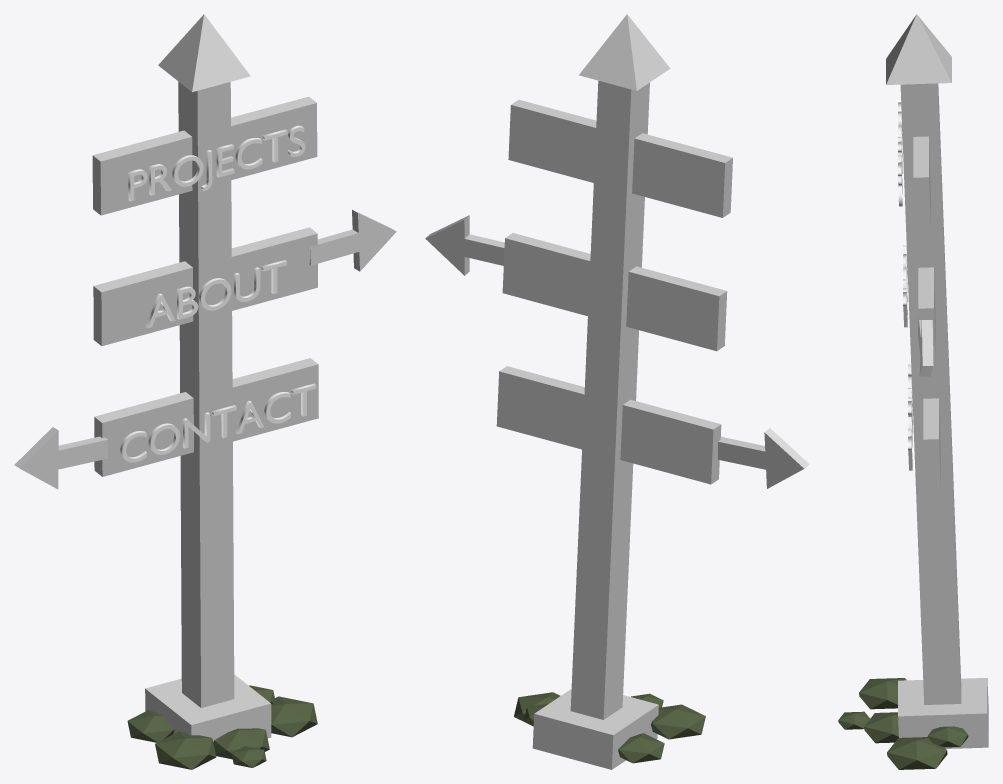
File: direction.glb
The picture shows the model from 3 angles, left to right: view 1: azimuth 30°, elevation 25°; view 2: azimuth 150°, elevation 25°; view 3: azimuth 270°, elevation 25°; orthographic projection. The views are drawn at different scales.
Visible parts, largest first — view 1: Signpost_Post, Signpost_Board_About, Signpost_Board_Projects, Signpost_Board_Contact, Signpost, Signpost_Base, Signpost_Cap, Signpost_Text_Projects, Signpost_Text_Contact, Signpost_Arrow_Right, Signpost_Arrow_Left, Signpost_Text_About; view 2: Signpost_Post, Signpost_Board_About, Signpost_Board_Projects, Signpost_Board_Contact, Signpost_Base, Signpost_Cap, Signpost, Signpost_Arrow_Right, Signpost_Arrow_Left; view 3: Signpost_Post, Signpost, Signpost_Base, Signpost_Cap, Signpost_Board_Contact, Signpost_Board_Projects, Signpost_Board_About, Signpost_Arrow_Left, Signpost_Text_Contact, Signpost_Text_Projects, Signpost_Text_About.
Boxes of the visible parts, x1,y1,x2,y2 form: Signpost_Post: (178,81,234,707); Signpost_Board_About: (93,227,317,345); Signpost_Board_Projects: (92,96,317,215); Signpost_Board_Contact: (94,358,318,476); Signpost: (127,685,317,769); Signpost_Base: (145,674,271,741); Signpost_Cap: (158,14,250,92); Signpost_Text_Projects: (128,125,305,201); Signpost_Text_Contact: (120,383,316,462); Signpost_Arrow_Right: (14,427,107,489); Signpost_Arrow_Left: (309,209,396,271); Signpost_Text_About: (146,260,286,327); Signpost_Post: (570,80,649,719); Signpost_Board_About: (502,233,727,351); Signpost_Board_Projects: (508,99,732,217); Signpost_Board_Contact: (496,366,721,484); Signpost_Base: (532,689,658,769); Signpost_Cap: (579,14,670,90); Signpost: (514,692,705,763); Signpost_Arrow_Right: (718,428,809,488); Signpost_Arrow_Left: (425,215,504,275); Signpost_Post: (900,83,961,704); Signpost: (838,678,968,769); Signpost_Base: (898,678,988,748); Signpost_Cap: (886,14,951,84); Signpost_Board_Contact: (923,398,940,493); Signpost_Board_Projects: (913,136,930,231); Signpost_Board_About: (918,267,935,362); Signpost_Arrow_Left: (918,318,933,376); Signpost_Text_Contact: (908,364,912,470); Signpost_Text_Projects: (898,102,903,206); Signpost_Text_About: (903,245,907,327).
Bounding box in the file's own units: 1.37 × 2.54 × 0.4849.
